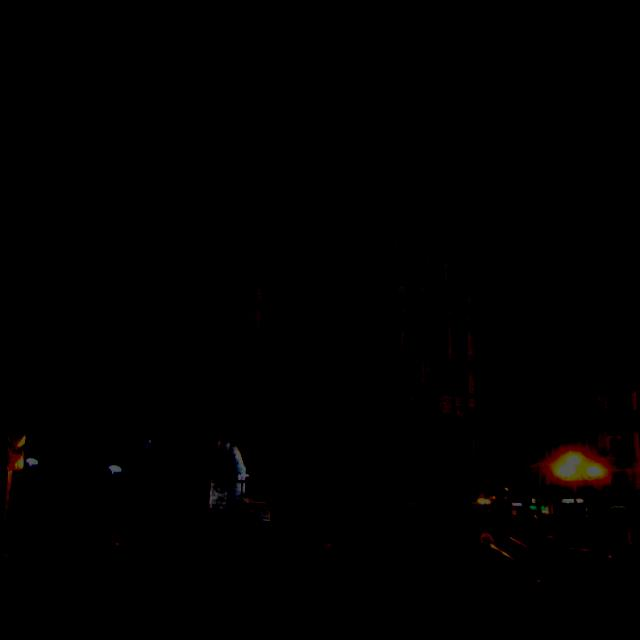Car: (253, 539, 550, 627)
